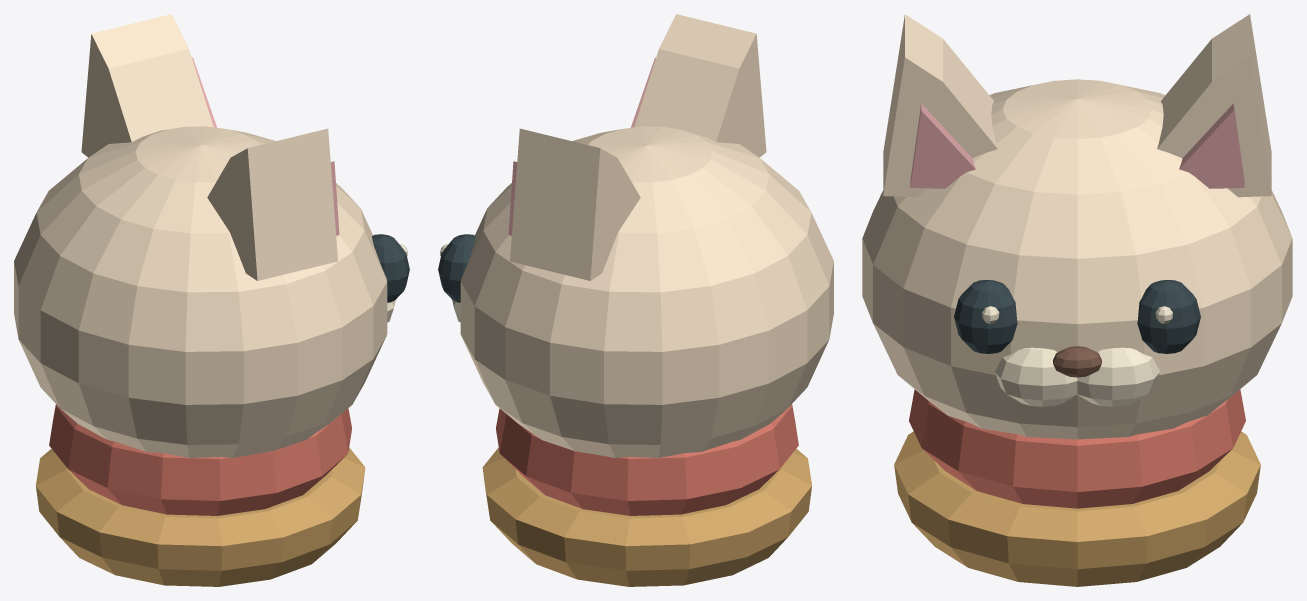
The model's file is SM_Pinball_Recruit5.fbx.
3 renders of one model, left to right at view 1: azimuth 30°, elevation 25°; view 2: azimuth 150°, elevation 25°; view 3: azimuth 270°, elevation 25°, orthographic. The views are drawn at different scales.
Parts seen in each view (by area): view 1: SM_Pinball_Recruit5; view 2: SM_Pinball_Recruit5; view 3: SM_Pinball_Recruit5.
Part boxes in pixels (x1,y1,x2,y2): SM_Pinball_Recruit5: (14,14,409,586); SM_Pinball_Recruit5: (438,14,833,586); SM_Pinball_Recruit5: (862,14,1292,586).
Bounding box in the file's own units: 56 × 55.35 × 69.7.
